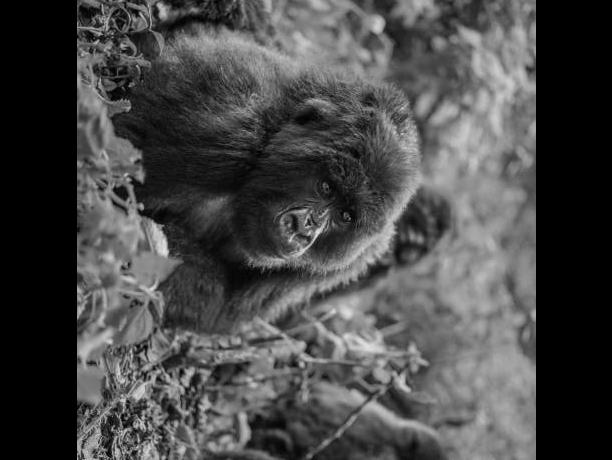goriile_montagne: (157, 25, 418, 322)
